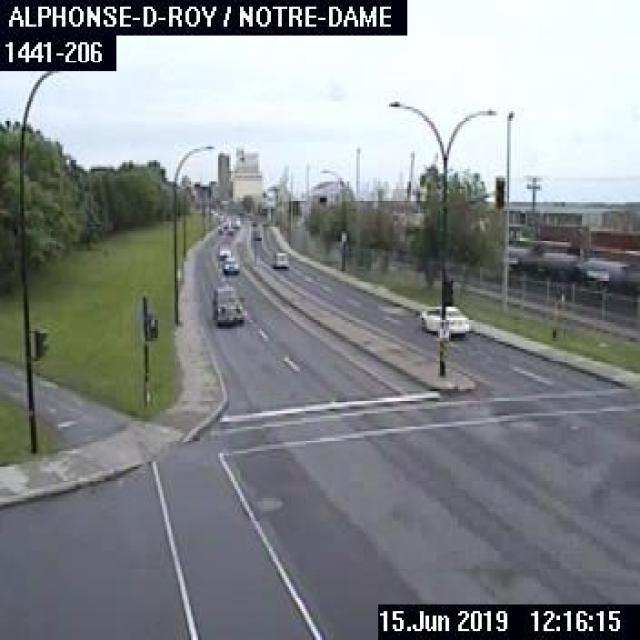vehicle: (418, 302, 469, 336), (209, 282, 246, 322), (221, 254, 238, 273), (271, 250, 288, 267), (216, 244, 230, 258)
